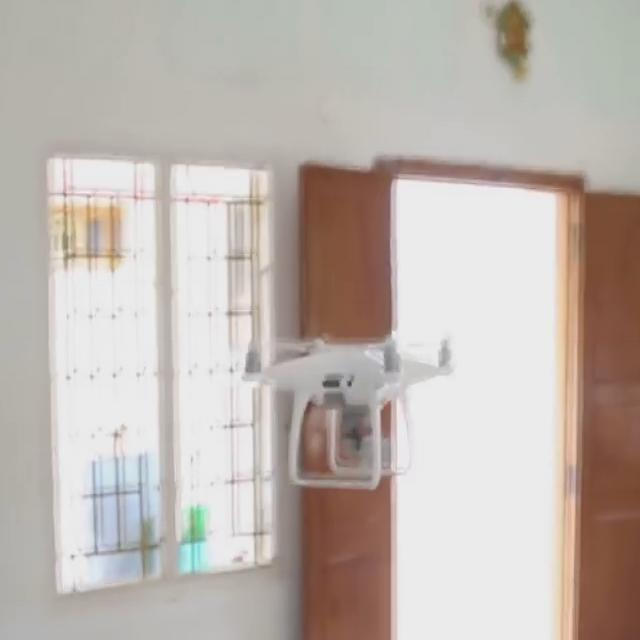drone: (224, 306, 466, 512)
